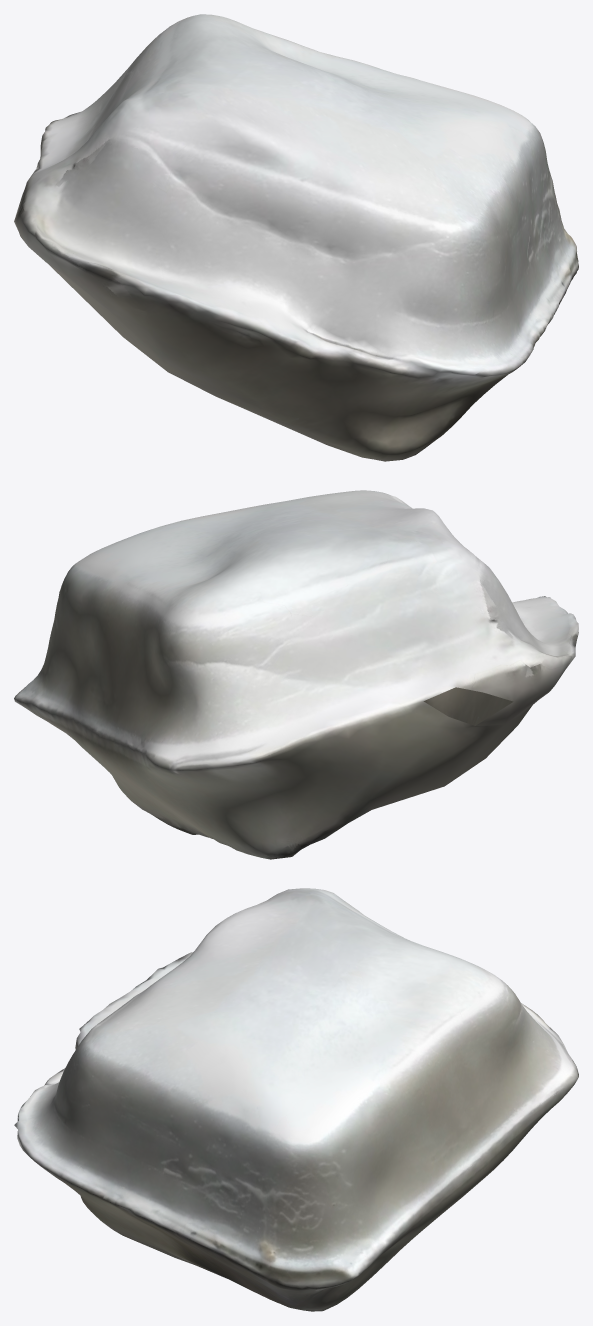
Rendered from meal.glb.
3 views of the same model, one above another, from view 1: azimuth 30°, elevation 25°; view 2: azimuth 150°, elevation 25°; view 3: azimuth 270°, elevation 25° (orthographic). The views are drawn at different scales.
Parts seen in each view (by area): view 1: 3DModel; view 2: 3DModel; view 3: 3DModel.
Boxes of the visible parts, left/top/right/bottom form: 3DModel: left=14, top=14, right=578, bottom=461; 3DModel: left=14, top=490, right=578, bottom=859; 3DModel: left=14, top=888, right=578, bottom=1311.
Size of the model in its own units: 0.4119 by 0.2528 by 0.424.
Materials: 1 (1 with a texture image).
